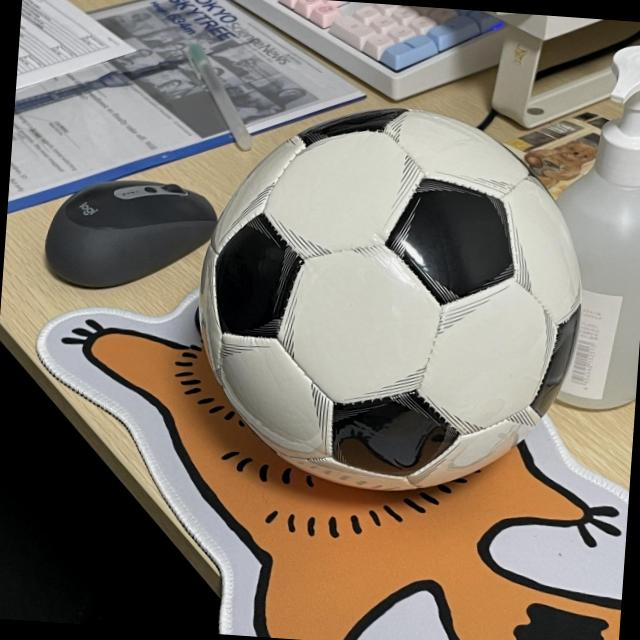Soccer Ball: (184, 95, 593, 506)
